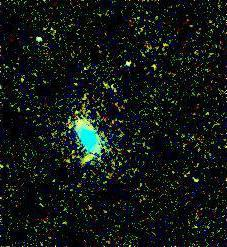star: (73, 142, 103, 172)
